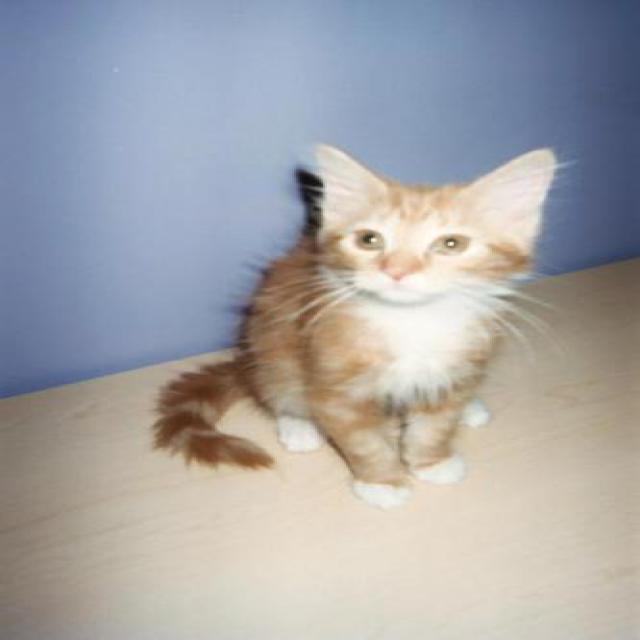Cats: (148, 141, 573, 509)
